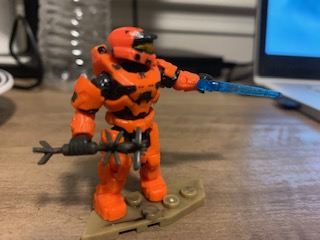spartan: (68, 24, 215, 223)
